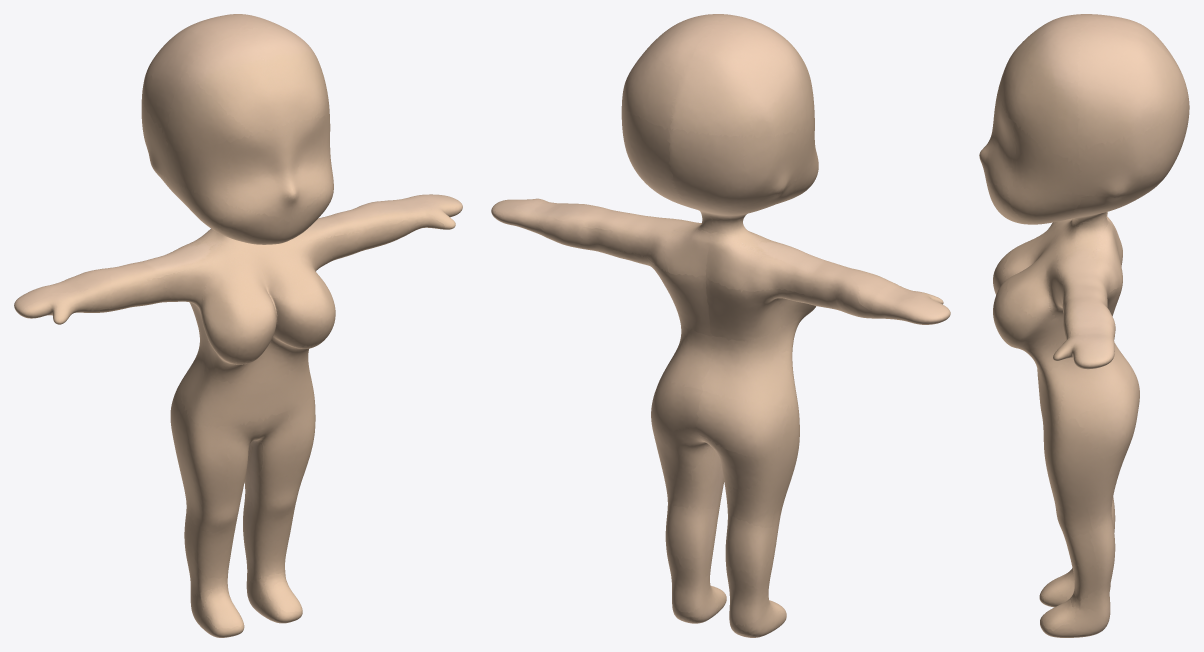
File: char_yeoja_base_v4.glb
3 views of the same model, side by side, from view 1: azimuth 30°, elevation 25°; view 2: azimuth 150°, elevation 25°; view 3: azimuth 270°, elevation 25° (orthographic). The views are drawn at different scales.
Size of the model in its own units: 1.49 by 1.9 by 0.6085.
Materials: 1 (1 with a texture image).
